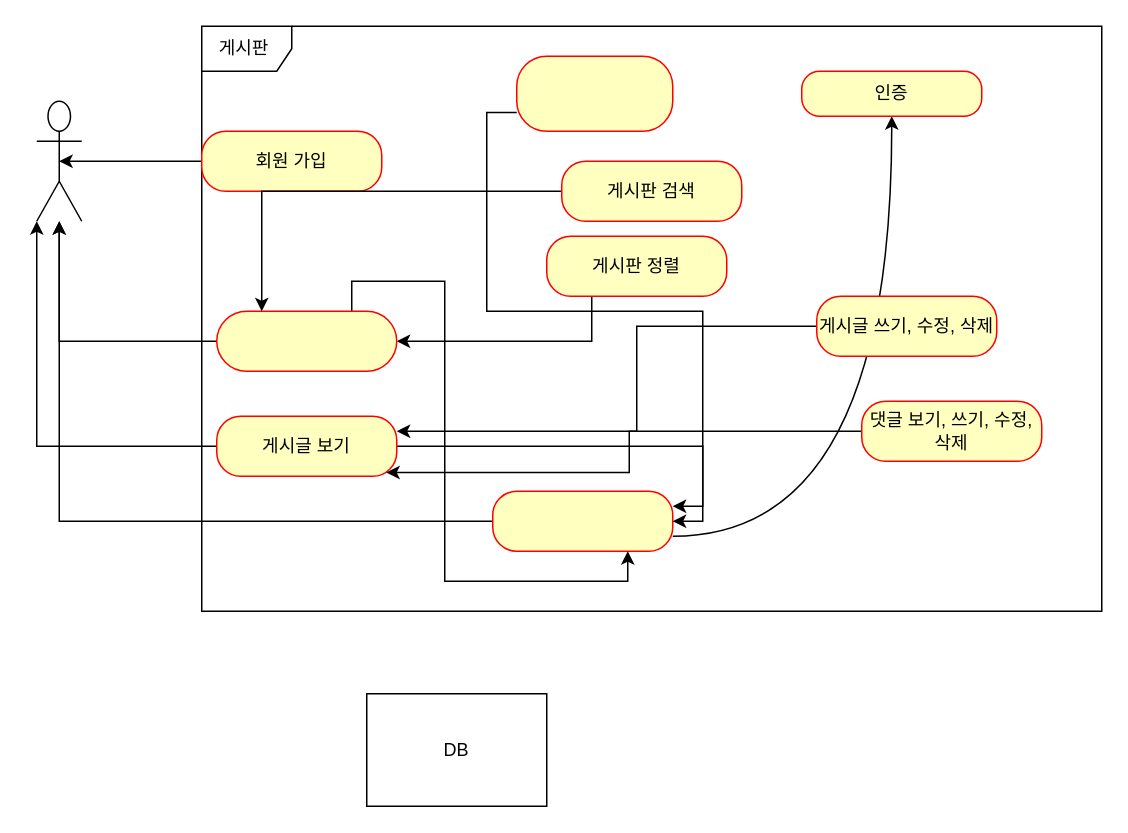
The diagram is 1128 pixels wide and 833 high, and some of its shapes have lost their labels. The shapes that lost their labels are listed below. From the top down, each one's centre as x and y in pixels, then its label:
At pixel 594 93: "로그인 실패".
At pixel 58 160: "Actor".
At pixel 306 340: "게시판 보기".
At pixel 582 520: "회원 로그인".
